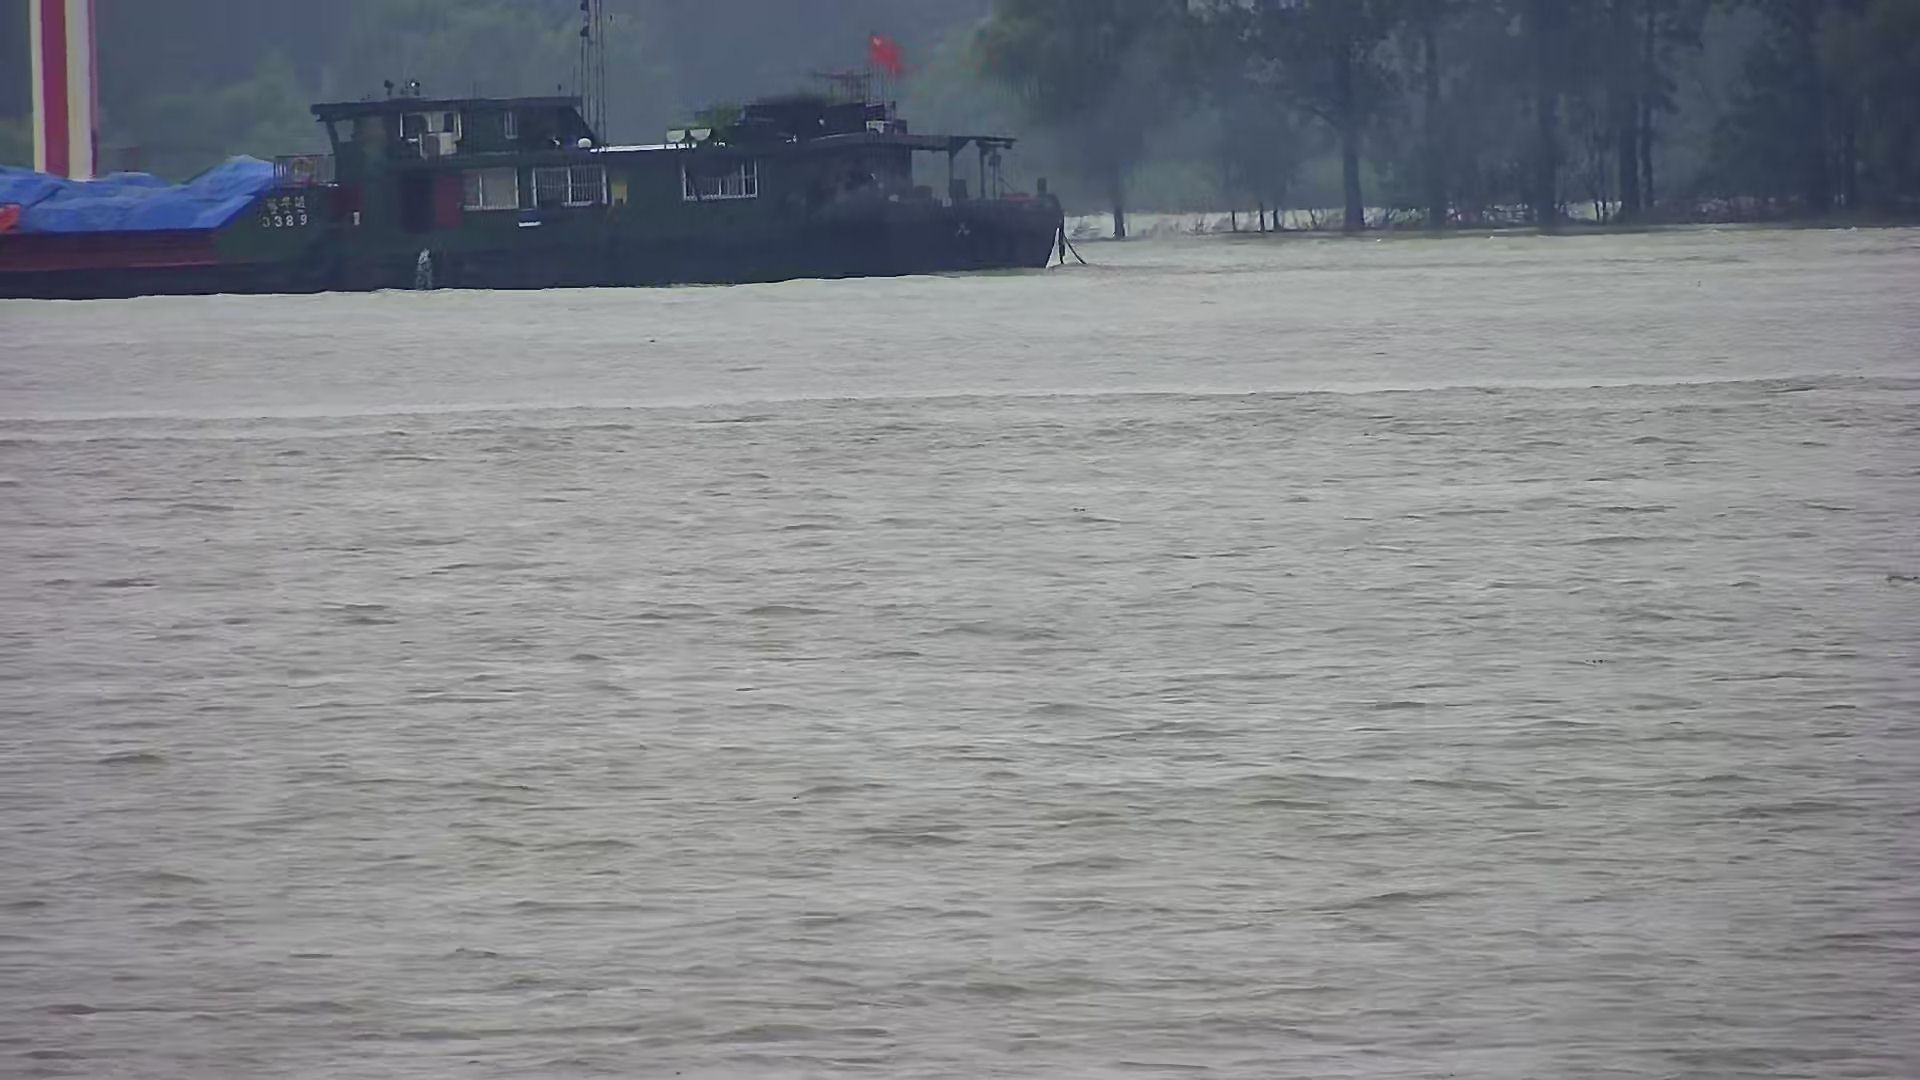ship: (1, 3, 1068, 295)
tree: (969, 3, 1197, 239), (1706, 1, 1920, 231), (1253, 1, 1400, 235), (1176, 1, 1309, 237), (1575, 3, 1700, 229), (1487, 3, 1602, 231), (1389, 3, 1487, 235)
